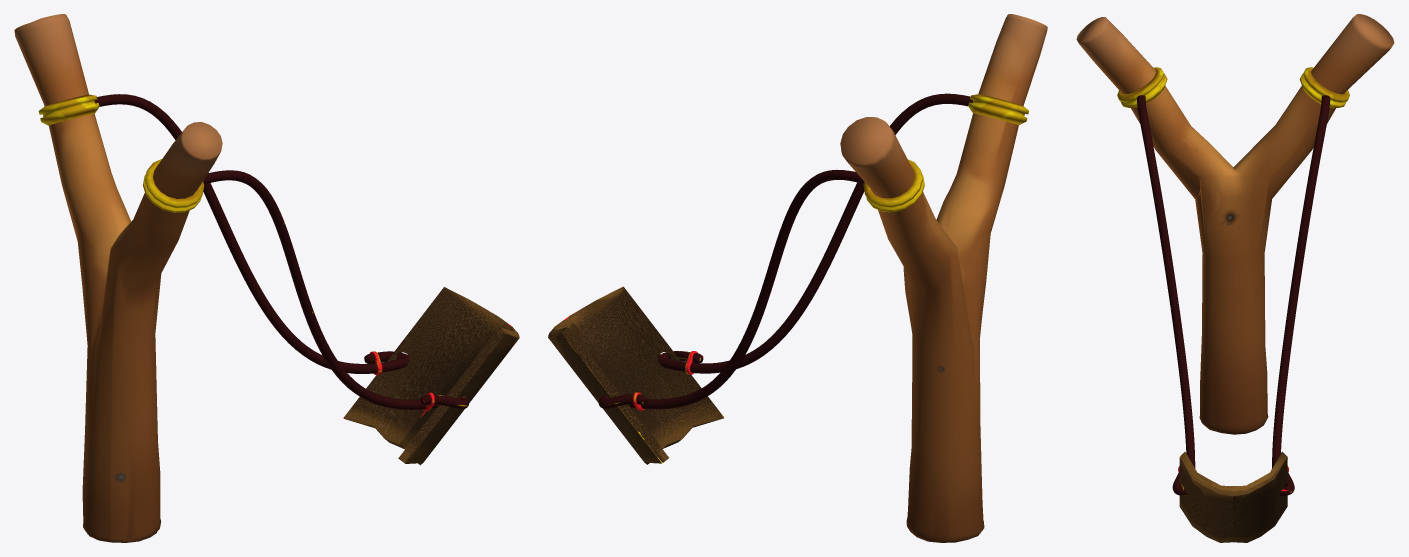
3 views of the same model, side by side, from view 1: azimuth 30°, elevation 25°; view 2: azimuth 150°, elevation 25°; view 3: azimuth 270°, elevation 25° (orthographic). The views are drawn at different scales.
Parts seen in each view (by area): view 1: Slingshot_0, Seat_3, Rubber_2, Rings_1; view 2: Slingshot_0, Seat_3, Rubber_2, Rings_1; view 3: Slingshot_0, Rubber_2, Seat_3, Rings_1.
Boxes of the visible parts, left/top/right/bottom form: Slingshot_0: left=14, top=14, right=222, bottom=542; Seat_3: left=343, top=287, right=519, bottom=465; Rubber_2: left=94, top=94, right=468, bottom=410; Rings_1: left=38, top=94, right=204, bottom=212; Slingshot_0: left=840, top=14, right=1047, bottom=542; Seat_3: left=548, top=286, right=724, bottom=464; Rubber_2: left=598, top=93, right=972, bottom=410; Rings_1: left=863, top=94, right=1028, bottom=212; Slingshot_0: left=1076, top=14, right=1394, bottom=434; Rubber_2: left=1137, top=95, right=1330, bottom=495; Seat_3: left=1179, top=451, right=1287, bottom=542; Rings_1: left=1117, top=67, right=1349, bottom=108.
Size of the model in its own units: 12.49 by 12.97 by 9.26.
Materials: 2 (2 with a texture image).
